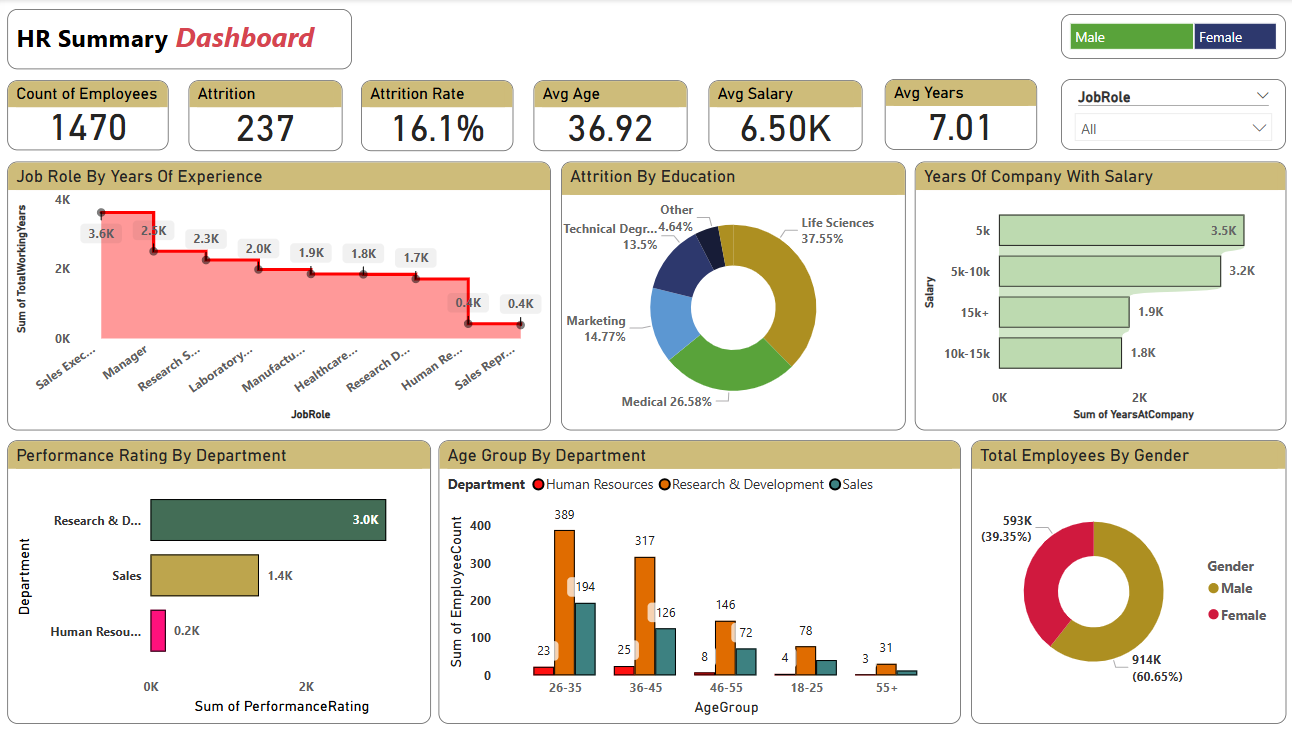

What the dashboard file says about the page in this screenshot:
{"tool":"powerbi","page":{"name":"Page 1","canvas":[1280,720],"ordinal":0},"visuals":[{"type":"card","title":"Count of Employees","fields":{"Values":["CountNonNull(HR_Analytics.EmpID)"]},"box":[11,79.8,158.3,68.7],"z":0},{"type":"card","title":"Attrition","fields":{"Values":["Sum(HR_Analytics.AttritionCount)"]},"box":[189,79.8,150.9,69.9],"z":1000},{"type":"card","title":"Avg Age","fields":{"Values":["Avg(HR_Analytics.Age)"]},"box":[527.6,79.8,150.9,69.9],"z":2000},{"type":"card","title":"Attrition Rate","fields":{"Values":["HR_Analytics.AttritionRate"]},"box":[358.3,79.8,149.7,69.9],"z":3000},{"type":"card","title":"Avg Salary","fields":{"Values":["Avg(HR_Analytics.MonthlyIncome)"]},"box":[699.4,79.8,150.9,69.9],"z":4000},{"type":"card","title":"Avg Years","fields":{"Values":["Avg(HR_Analytics.YearsAtCompany)"]},"box":[872.4,78.5,149.7,69.9],"z":5000},{"type":"donutChart","title":"Attrition By Education","fields":{"Y":["Sum(HR_Analytics.AttritionCount)"],"Category":["HR_Analytics.EducationField"]},"box":[554.6,159.5,338.7,263.8],"z":6000},{"type":"lineClusteredColumnComboChart","title":"Age Group By Department","fields":{"Category":["HR_Analytics.AgeGroup"],"Y":["Sum(HR_Analytics.EmployeeCount)"],"Series":["HR_Analytics.Department"]},"box":[434.4,433.1,512.9,278.5],"z":7000},{"type":"barChart","title":"Years Of Company With Salary","fields":{"Category":["HR_Analytics.Salary"],"Y":["Sum(HR_Analytics.YearsAtCompany)"]},"box":[901.8,159.5,364.4,263.8],"z":8000},{"type":"areaChart","title":"Job Role By Years Of Experience","fields":{"Category":["HR_Analytics.JobRole"],"Y":["Sum(HR_Analytics.TotalWorkingYears)"]},"box":[11,159.5,533.7,263.8],"z":9000},{"type":"barChart","title":"Performance Rating By Department","fields":{"Y":["Sum(HR_Analytics.PerformanceRating)"],"Category":["HR_Analytics.Department"]},"box":[11,433.1,416,278.5],"z":10000},{"type":"donutChart","title":"Total Employees By Gender","fields":{"Category":["HR_Analytics.Gender"],"Y":["Sum(HR_Analytics.EmployeeNumber)"]},"box":[957.1,433.1,309.2,278.5],"z":11000},{"type":"textbox","box":[11,9.8,338.7,58.9],"z":12000},{"type":"treemap","fields":{"Group":["HR_Analytics.Gender"],"Values":["CountNonNull(HR_Analytics.Gender)"]},"box":[1045.4,14.7,220.9,44.2],"z":13000},{"type":"slicer","fields":{"Values":["HR_Analytics.JobRole"]},"box":[1045.4,78.5,220.9,69.9],"z":14000}]}

Visuals, with their boxes in screenshot pixels (x1, y1, x2, y2), scaled from the page's 1280x720 canvas onto the 1292x731 screenshot:
"Count of Employees" card: x1=11, y1=81, x2=171, y2=151
"Attrition" card: x1=191, y1=81, x2=343, y2=152
"Avg Age" card: x1=533, y1=81, x2=685, y2=152
"Attrition Rate" card: x1=362, y1=81, x2=513, y2=152
"Avg Salary" card: x1=706, y1=81, x2=858, y2=152
"Avg Years" card: x1=881, y1=80, x2=1032, y2=151
"Attrition By Education" donutChart: x1=560, y1=162, x2=902, y2=430
"Age Group By Department" lineClusteredColumnComboChart: x1=438, y1=440, x2=956, y2=722
"Years Of Company With Salary" barChart: x1=910, y1=162, x2=1278, y2=430
"Job Role By Years Of Experience" areaChart: x1=11, y1=162, x2=550, y2=430
"Performance Rating By Department" barChart: x1=11, y1=440, x2=431, y2=722
"Total Employees By Gender" donutChart: x1=966, y1=440, x2=1278, y2=722
textbox: x1=11, y1=10, x2=353, y2=70
treemap - HR_Analytics.Gender x CountNonNull(HR_Analytics.Gender): x1=1055, y1=15, x2=1278, y2=60
slicer - HR_Analytics.JobRole: x1=1055, y1=80, x2=1278, y2=151
